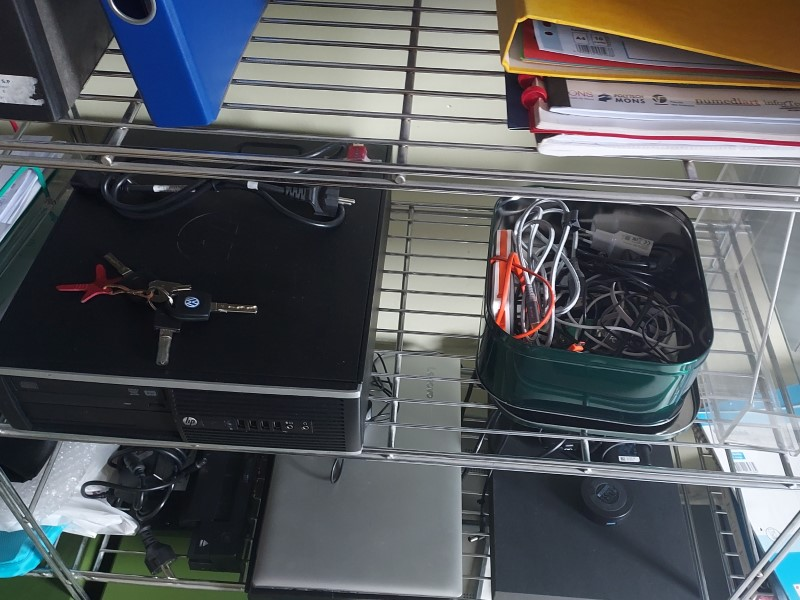key: (171, 293, 259, 322), (100, 251, 148, 292), (152, 301, 178, 366)
